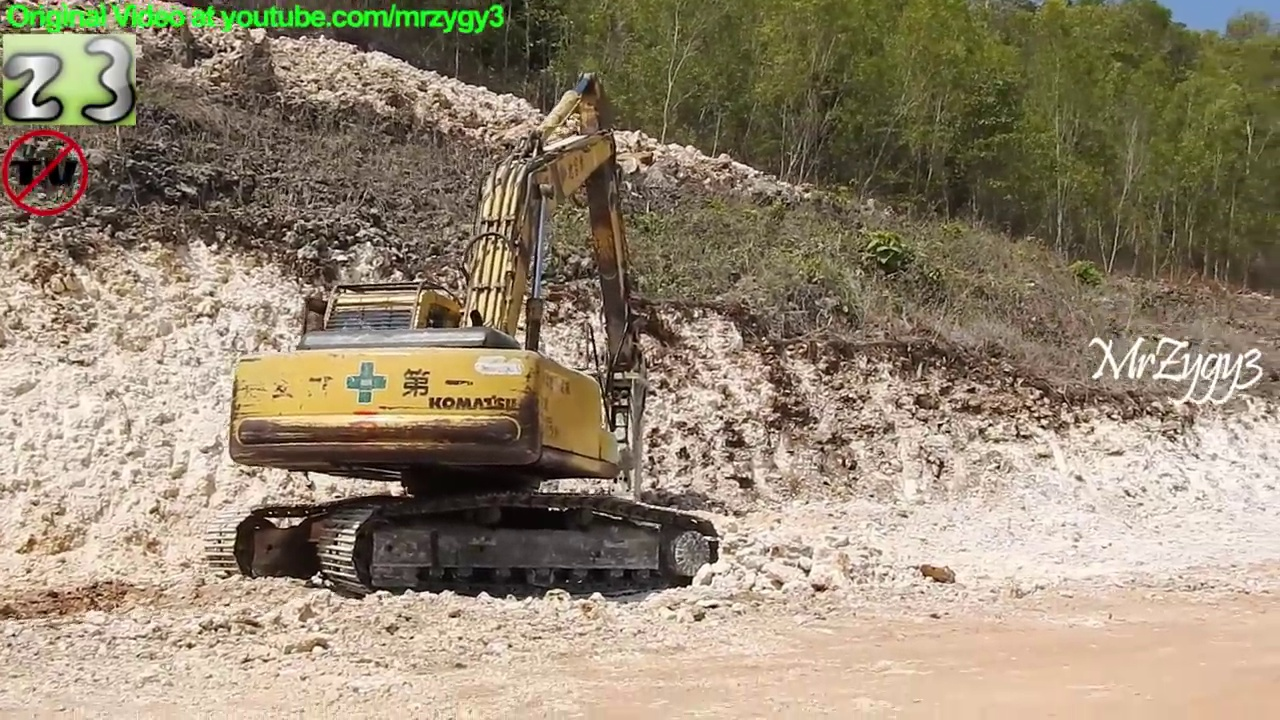excavator breaker: (198, 64, 726, 614)
